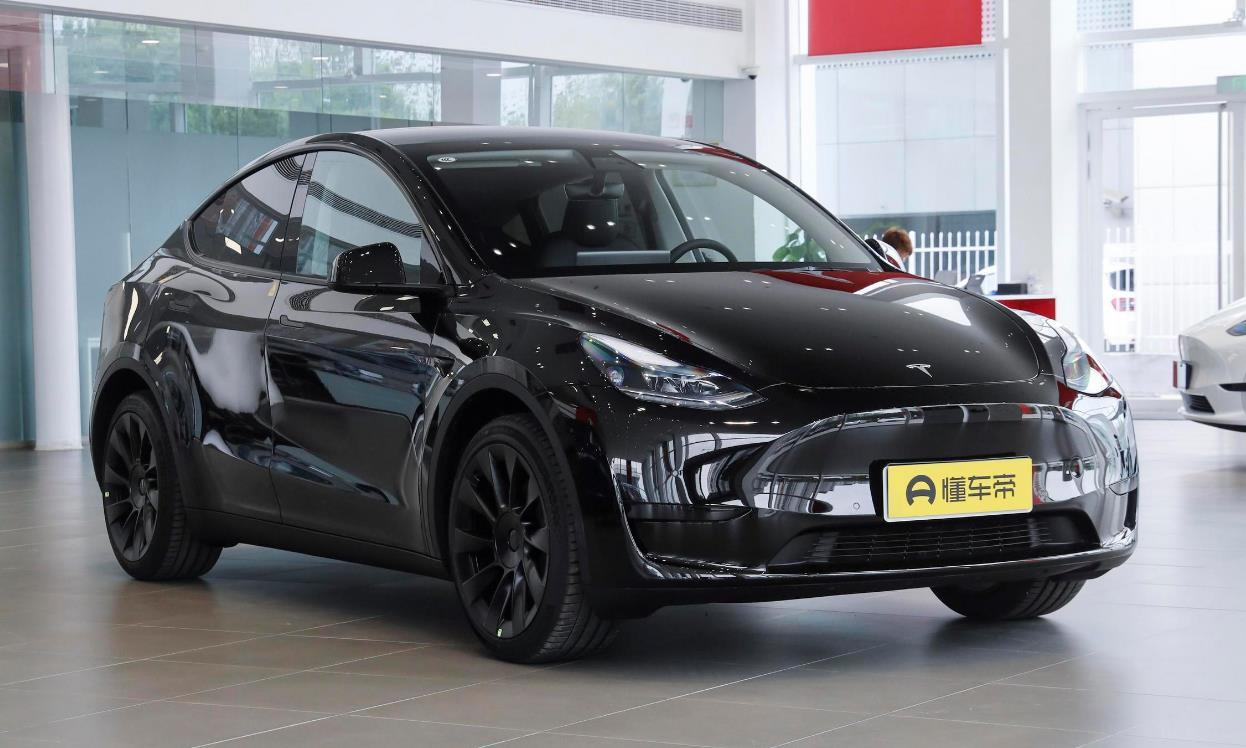Tesla: (906, 363, 934, 379)
